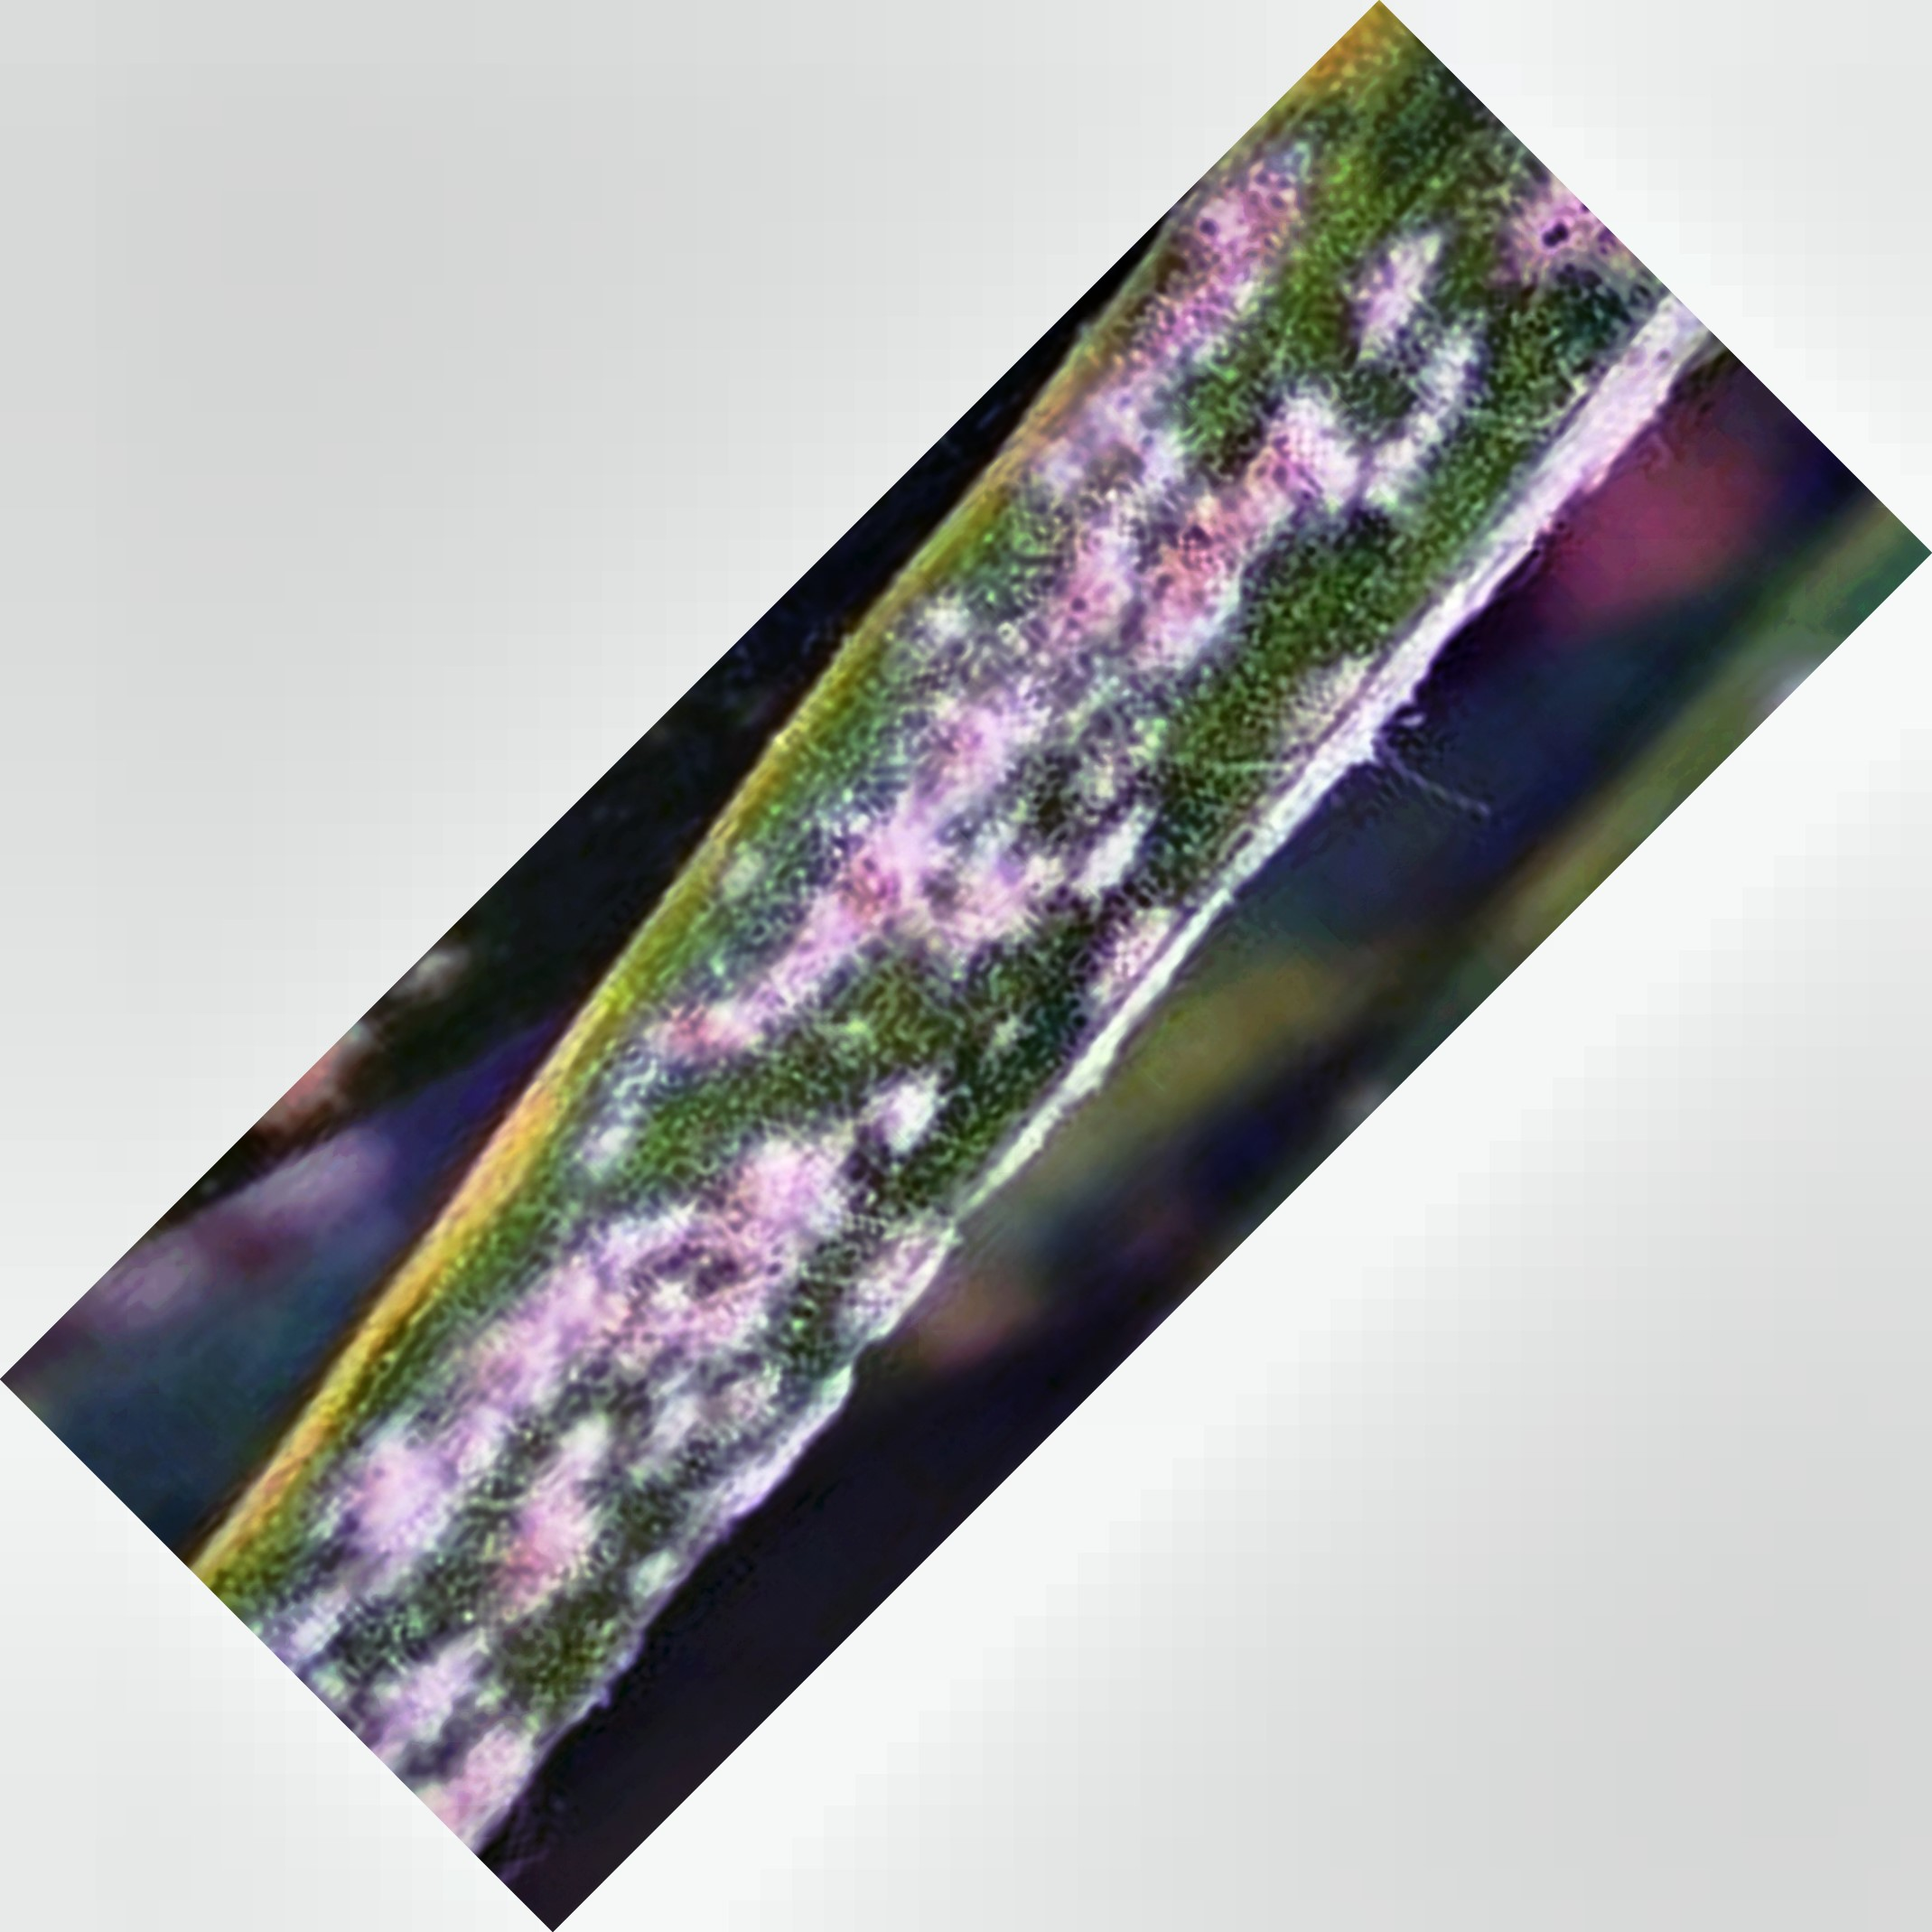Powdery Mildew: (460, 303, 1491, 1587)
